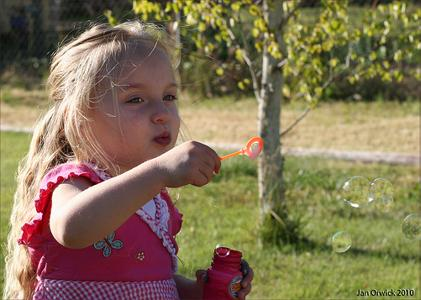person: (8, 24, 257, 300)
